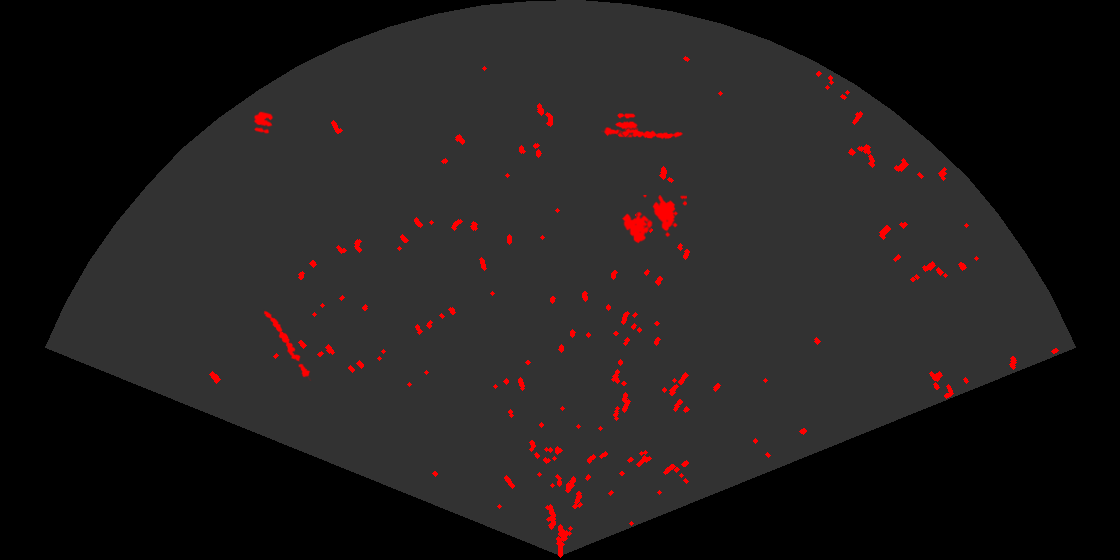ball: (613, 112, 640, 139), (252, 110, 275, 135)
cage: (620, 195, 687, 245)
chain: (262, 309, 313, 381), (601, 126, 683, 141)
